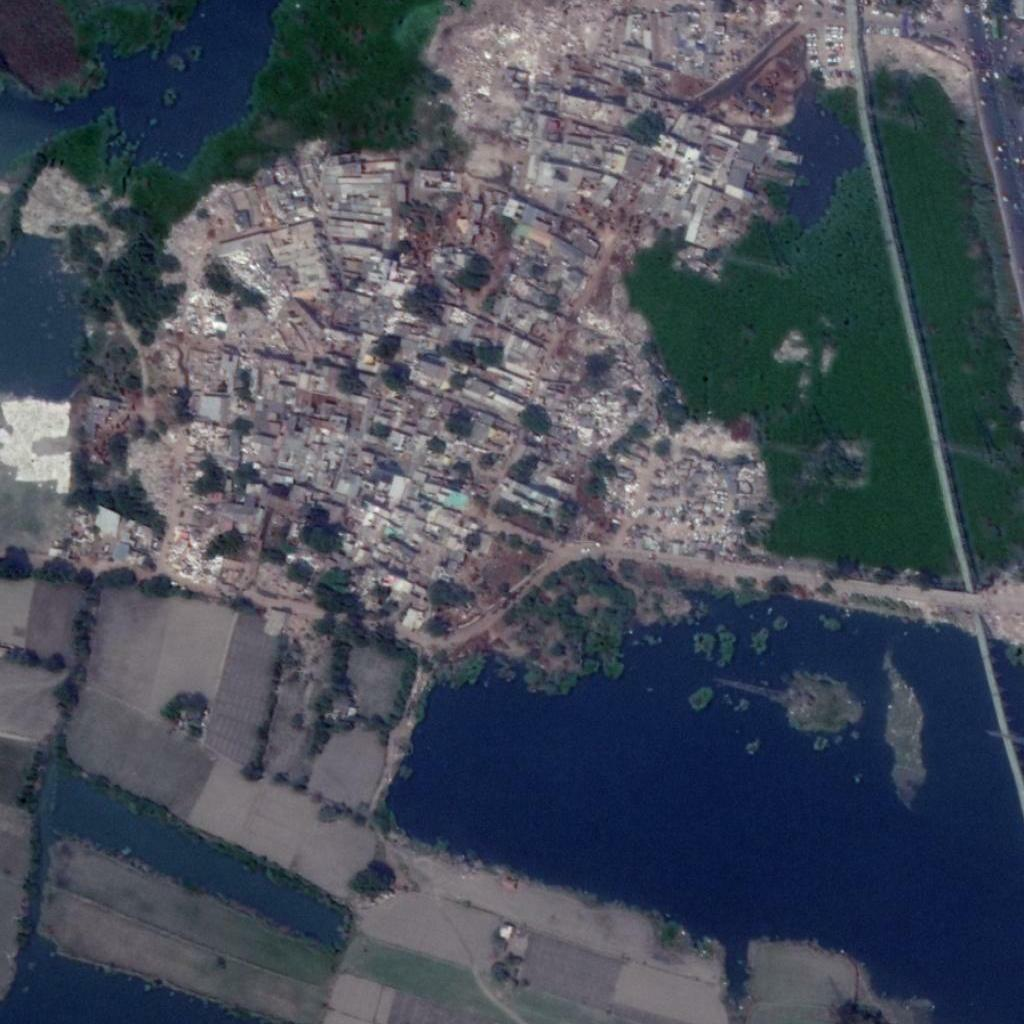agriculture forestry: (19, 166, 95, 239)
construction waste: (565, 401, 754, 549), (443, 1, 599, 87), (168, 249, 286, 341)
domestic garbage: (166, 520, 227, 577)
